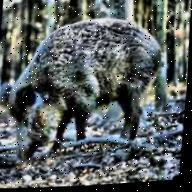boar: (0, 9, 181, 163)
